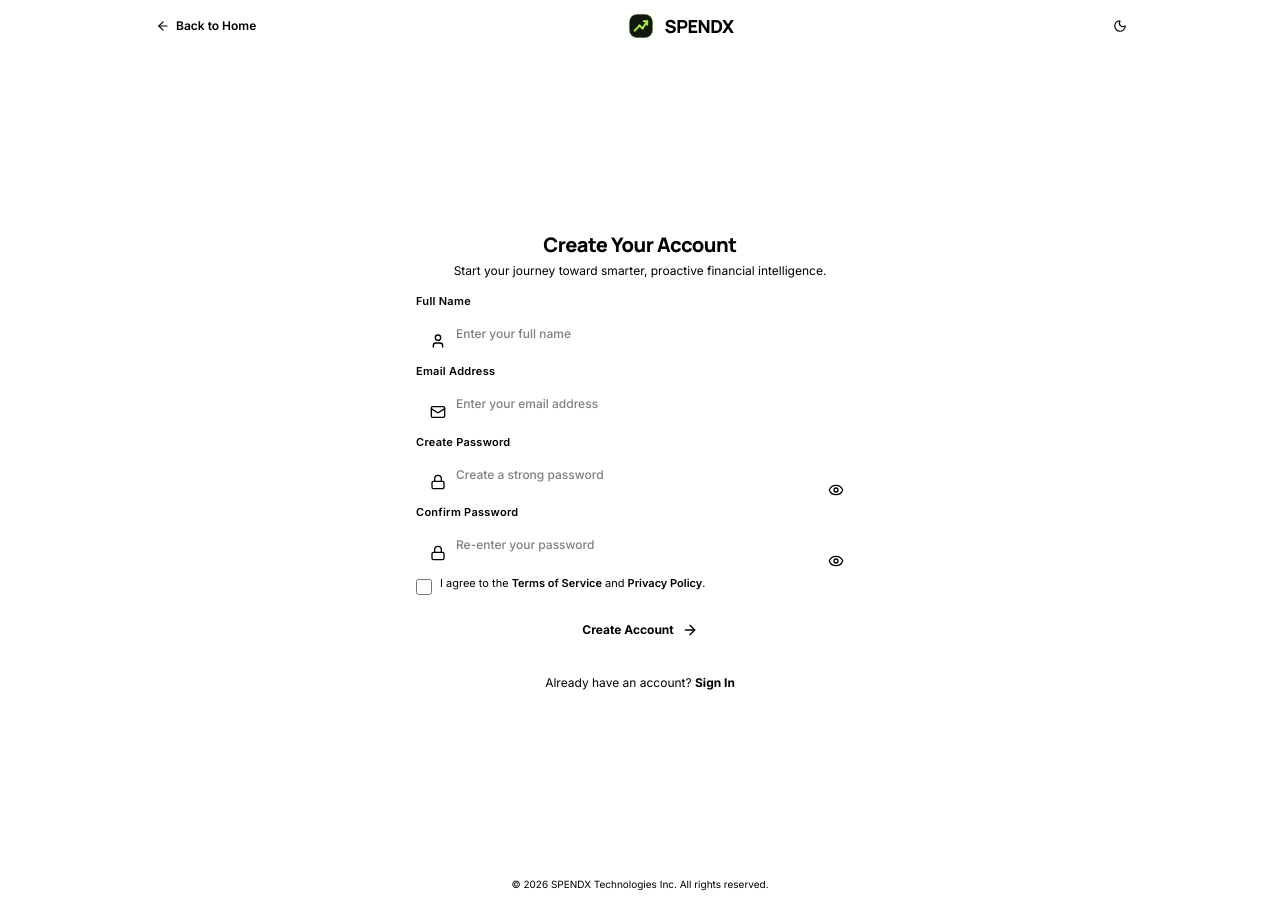
SPENDX Authentication Pages › validates signup form and requires password matching and terms agreement
Click the button "Create Account" at (640, 630), box top-left (416, 608), bottom-right (864, 650)
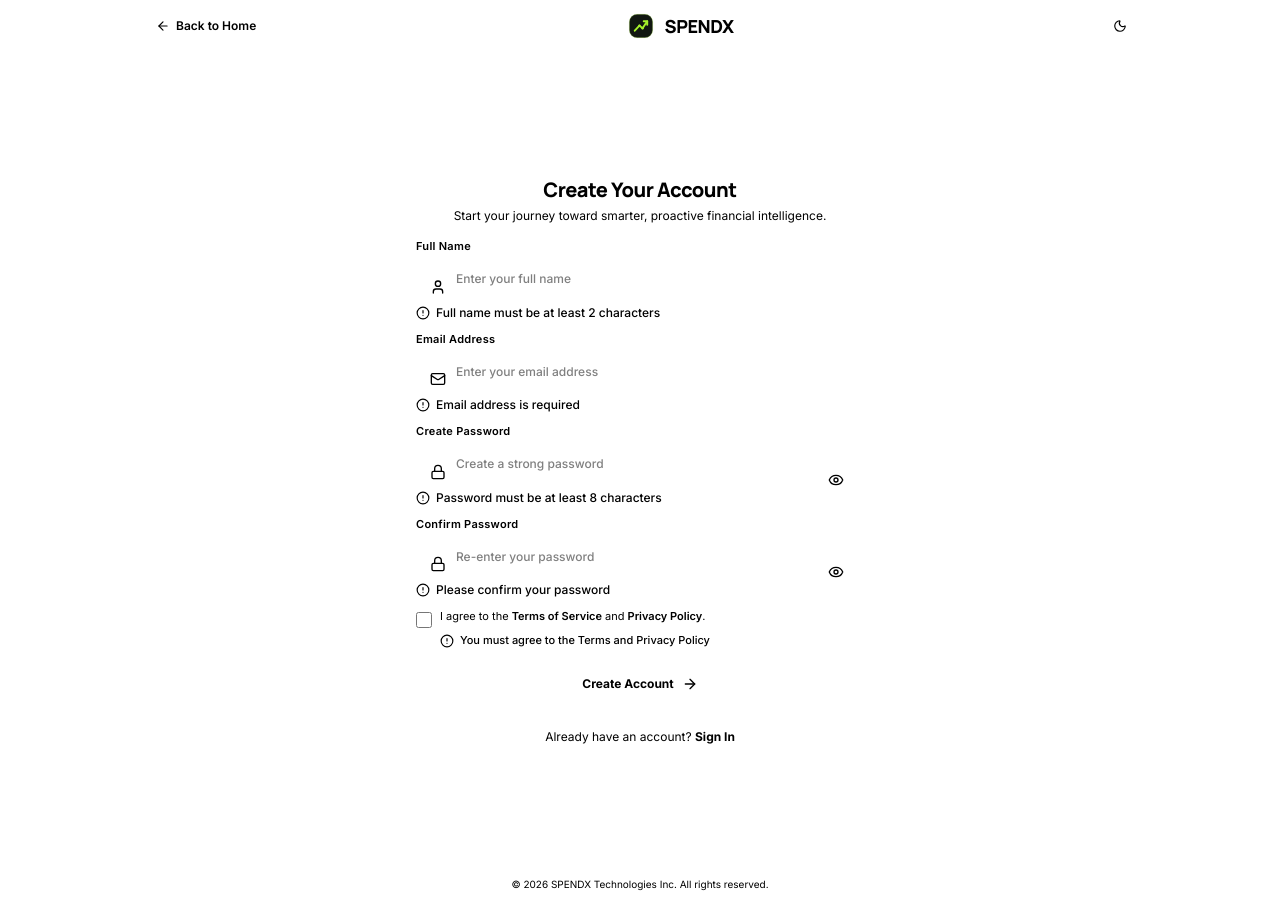
Result: the text "Full name must be at least 2 characters" is shown at top-left (436, 305), bottom-right (660, 321)
Result: the text "Email address is required" is shown at top-left (436, 397), bottom-right (580, 413)
